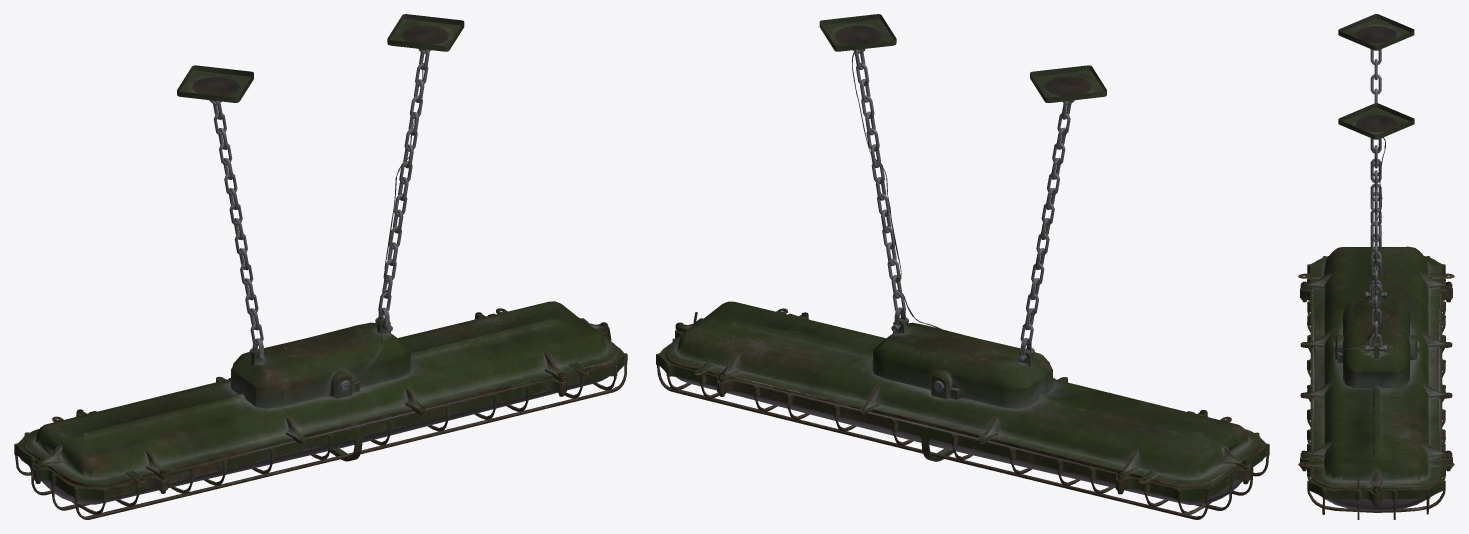
File: caged_hanging_light_1k.glb
3 views of the same model, side by side, from view 1: azimuth 30°, elevation 25°; view 2: azimuth 150°, elevation 25°; view 3: azimuth 270°, elevation 25° (orthographic). The views are drawn at different scales.
Visible parts, largest first — view 1: caged_hanging_light; view 2: caged_hanging_light; view 3: caged_hanging_light.
Boxes of the visible parts, x1,y1,x2,y2 form: caged_hanging_light: [14, 14, 627, 519]; caged_hanging_light: [656, 14, 1269, 519]; caged_hanging_light: [1298, 14, 1454, 519].
Size of the model in its own units: 1.16 by 0.7501 by 0.3149.
Materials: 1 (1 with a texture image).
